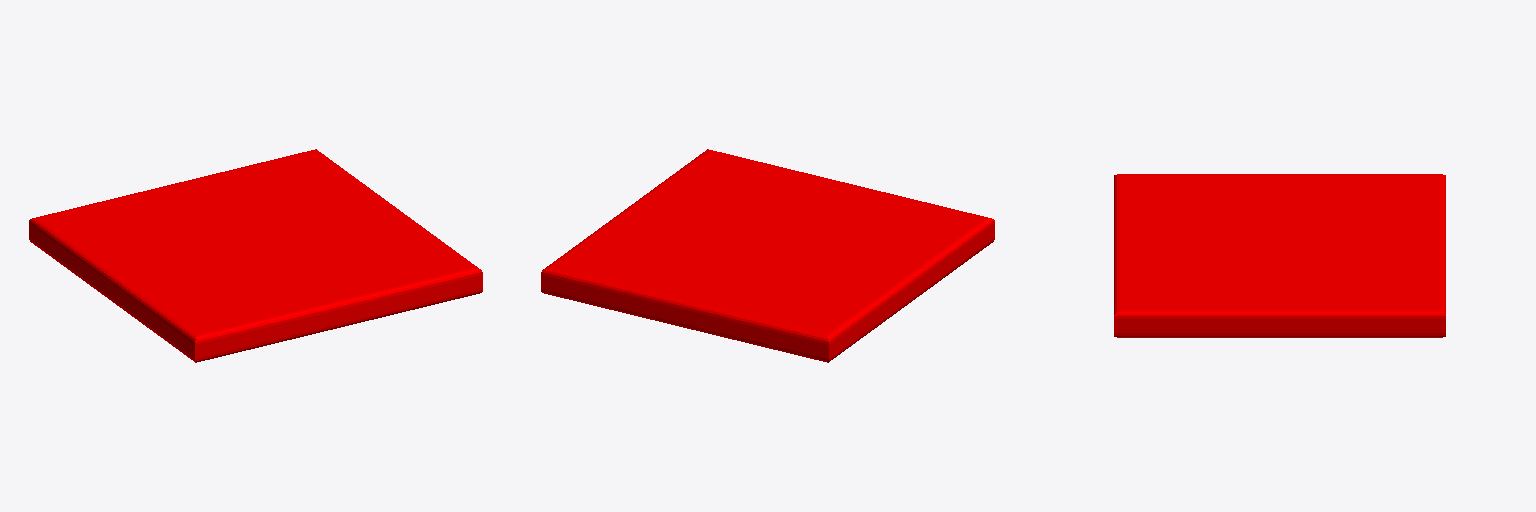
The model's file is table.obj.
The picture shows the model from 3 angles: view 1: azimuth 30°, elevation 25°; view 2: azimuth 150°, elevation 25°; view 3: azimuth 270°, elevation 25°; orthographic projection.
Parts seen in each view (by area): view 1: Box01; view 2: Box01; view 3: Box01.
Boxes of the visible parts, <box> form: Box01: <box>29,149,482,362</box>; Box01: <box>541,149,994,362</box>; Box01: <box>1114,174,1445,337</box>.
Bounding box in the file's own units: 12.1 × 1.06 × 12.1.